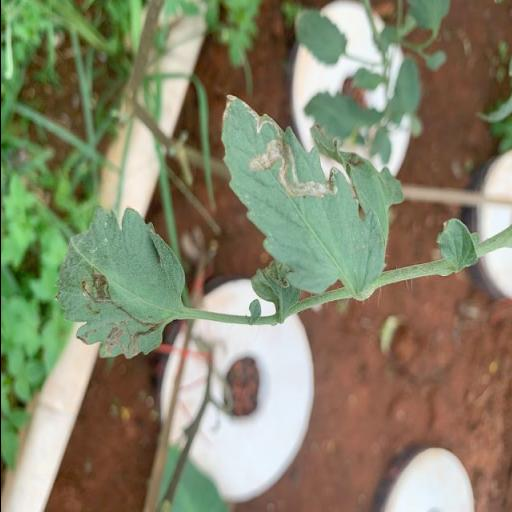Leaf Miner: (219, 90, 387, 294)
